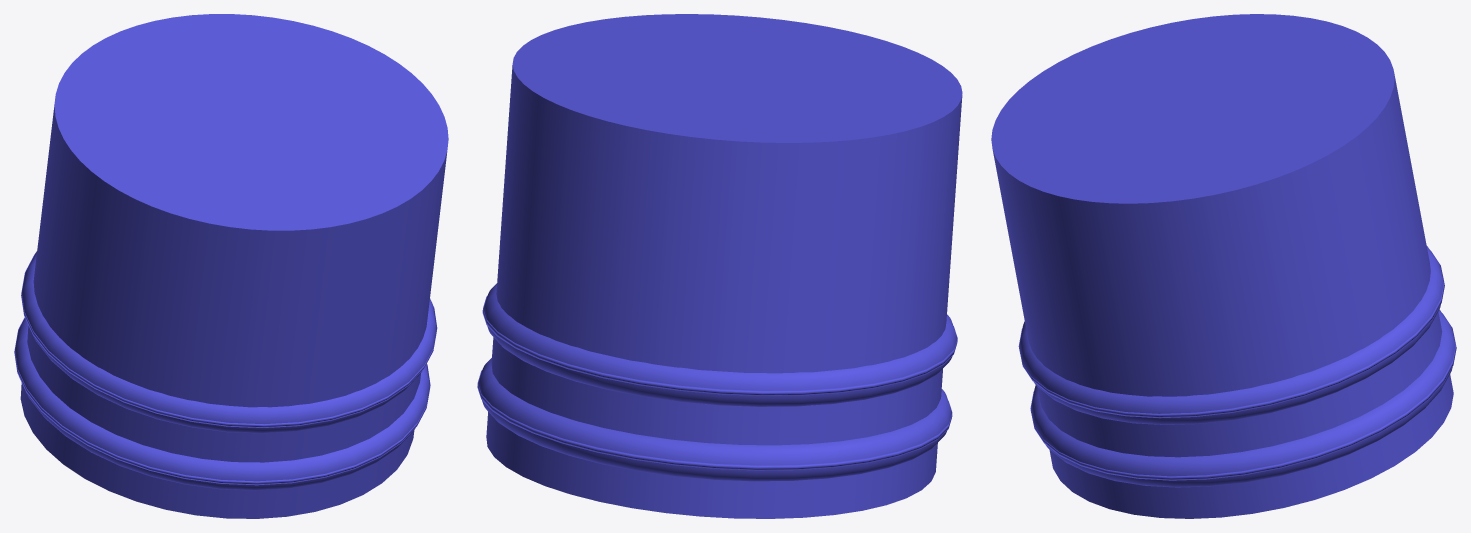
The model's file is bombilla234.obj.
3 renders of one model, left to right at view 1: azimuth 30°, elevation 25°; view 2: azimuth 150°, elevation 25°; view 3: azimuth 270°, elevation 25°, orthographic. The views are drawn at different scales.
Parts seen in each view (by area): view 1: Cylinder001, Cylinder004, Cylinder002, Cylinder003, Cylinder006; view 2: Cylinder001, Cylinder003, Cylinder004, Cylinder006, Cylinder002; view 3: Cylinder001, Cylinder004, Cylinder003, Cylinder002, Cylinder006.
Part boxes in pixels (<box>): Cylinder001: <box>33,14,448,407</box>; Cylinder004: <box>14,317,430,490</box>; Cylinder002: <box>21,251,437,433</box>; Cylinder003: <box>27,326,420,462</box>; Cylinder006: <box>20,383,414,518</box>; Cylinder001: <box>496,14,962,373</box>; Cylinder003: <box>491,337,942,445</box>; Cylinder004: <box>477,358,952,481</box>; Cylinder006: <box>486,412,937,518</box>; Cylinder002: <box>482,283,957,406</box>; Cylinder001: <box>991,14,1430,396</box>; Cylinder004: <box>1030,309,1456,487</box>; Cylinder003: <box>1037,312,1442,457</box>; Cylinder002: <box>1018,246,1444,424</box>; Cylinder006: <box>1049,374,1453,518</box>.
Size of the model in its own units: 72.45 by 70.16 by 77.89.
